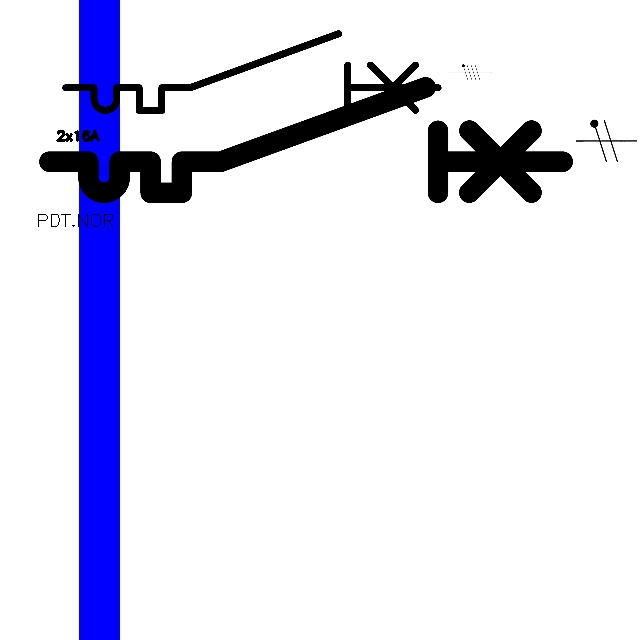interruptor_termomagnetico: (36, 74, 575, 206), (56, 24, 448, 120)
